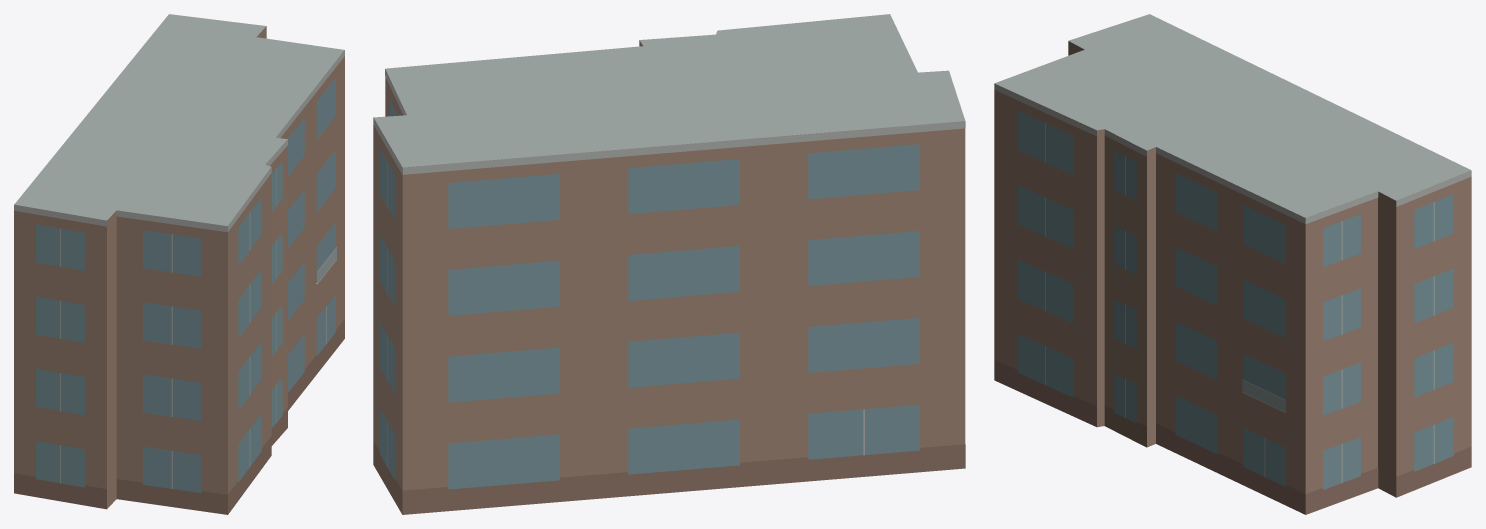
Rendered from survey-upis-33001347.glb.
3 renders of one model, left to right at view 1: azimuth 30°, elevation 25°; view 2: azimuth 150°, elevation 25°; view 3: azimuth 270°, elevation 25°, orthographic. The views are drawn at different scales.
Parts seen in each view (by area): view 1: survey-upis-33001347.tmp; view 2: survey-upis-33001347.tmp; view 3: survey-upis-33001347.tmp.
Part boxes in pixels (x1,y1,x2,y2): survey-upis-33001347.tmp: (14,14,344,514); survey-upis-33001347.tmp: (373,14,965,514); survey-upis-33001347.tmp: (994,14,1471,514).
Bounding box in the file's own units: 17.1 × 11.6 × 16.91.
